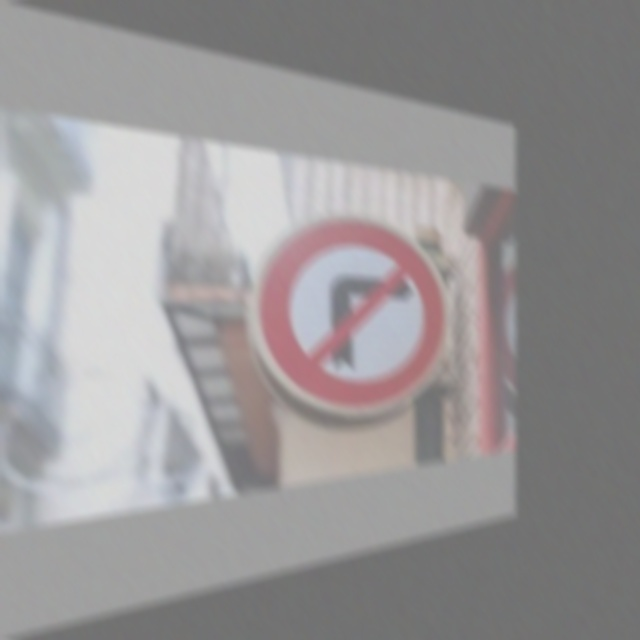Right_Turn_Prohibited: (252, 204, 446, 437)
